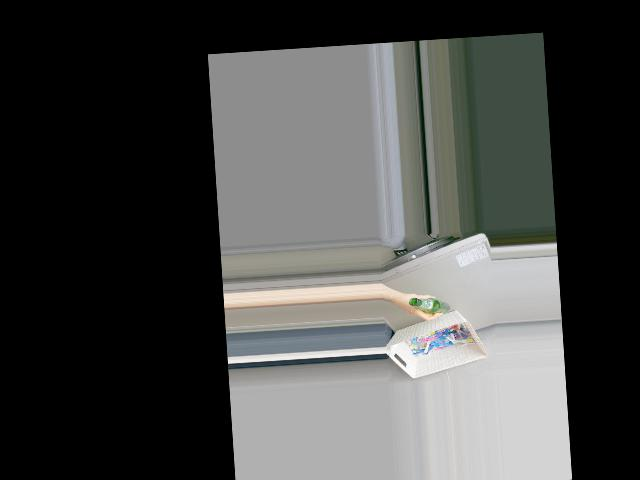beer: (408, 295, 450, 316)
